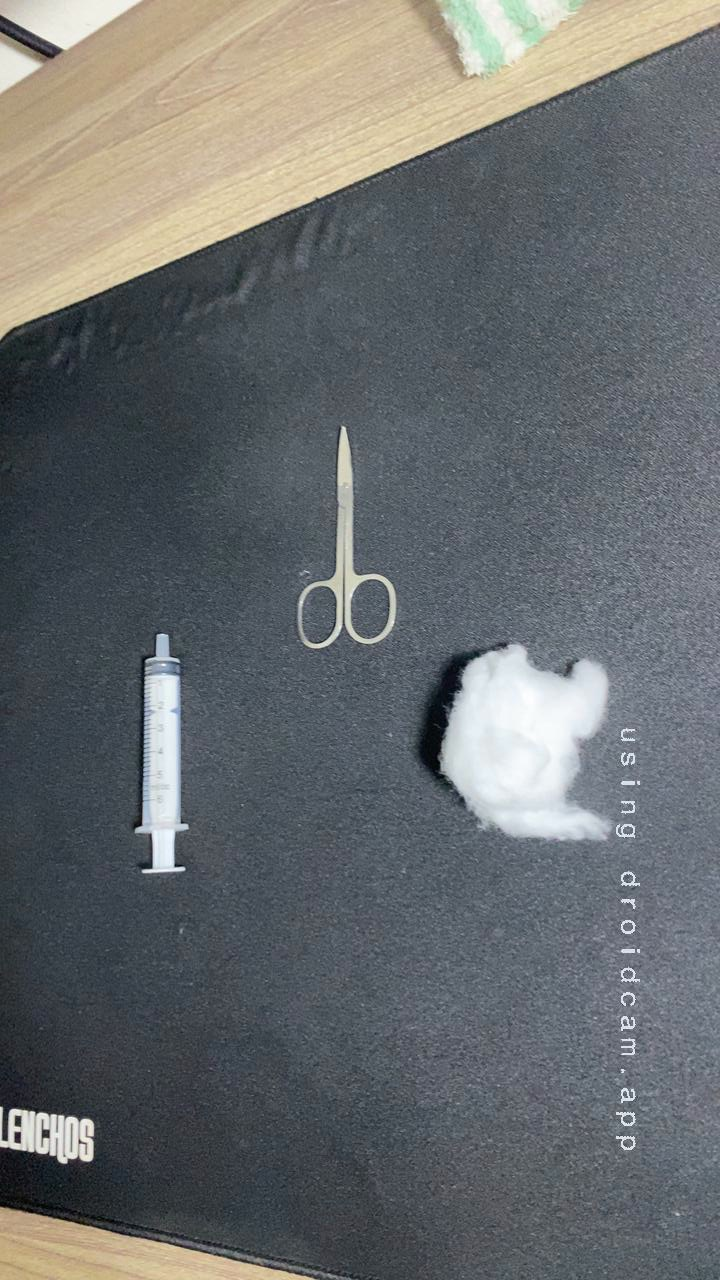cotton: (403, 633, 635, 851)
scissor: (272, 418, 412, 658)
syringe: (108, 621, 214, 886)
